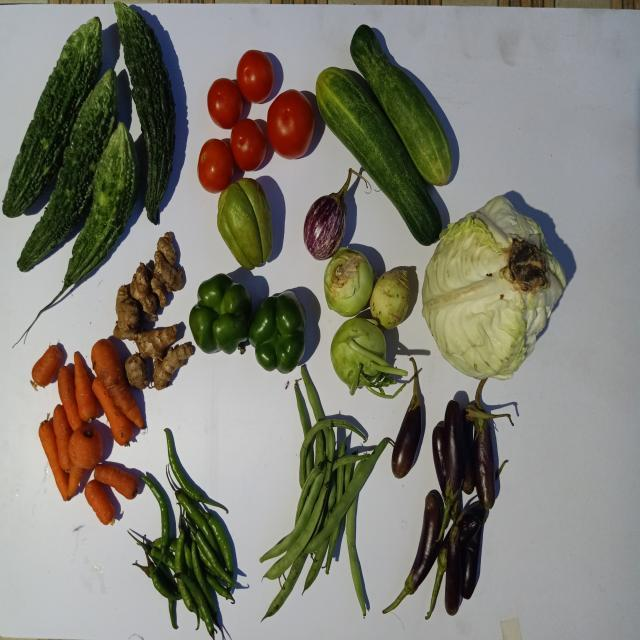Bitter Gourd: (16, 67, 118, 271), (1, 15, 102, 217), (113, 0, 175, 224), (61, 121, 138, 291)
Brinjal: (392, 357, 422, 478), (411, 490, 445, 593), (444, 400, 465, 494), (445, 524, 463, 616)
Cabbage: (423, 195, 567, 379)
Carrot: (90, 339, 143, 427), (38, 420, 68, 501), (73, 351, 98, 421), (57, 366, 82, 431), (93, 464, 138, 500), (84, 479, 114, 525), (31, 345, 62, 387)
Cucumber: (316, 66, 443, 245), (350, 23, 453, 185)
Eggplant: (304, 167, 370, 259)
Ginger: (113, 284, 142, 340)
Green Chilly: (302, 438, 393, 554), (260, 472, 324, 562), (164, 429, 227, 513), (300, 419, 367, 480), (190, 526, 236, 587), (175, 490, 219, 552), (141, 475, 170, 555), (205, 512, 234, 575), (265, 567, 285, 579)
Tomato: (267, 88, 315, 158), (236, 49, 274, 102), (197, 138, 234, 192), (230, 117, 266, 170), (207, 77, 242, 128)
Turnip: (331, 317, 408, 398), (324, 247, 376, 316), (370, 269, 410, 328)
